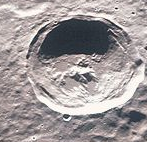crater: (9, 11, 144, 131)
